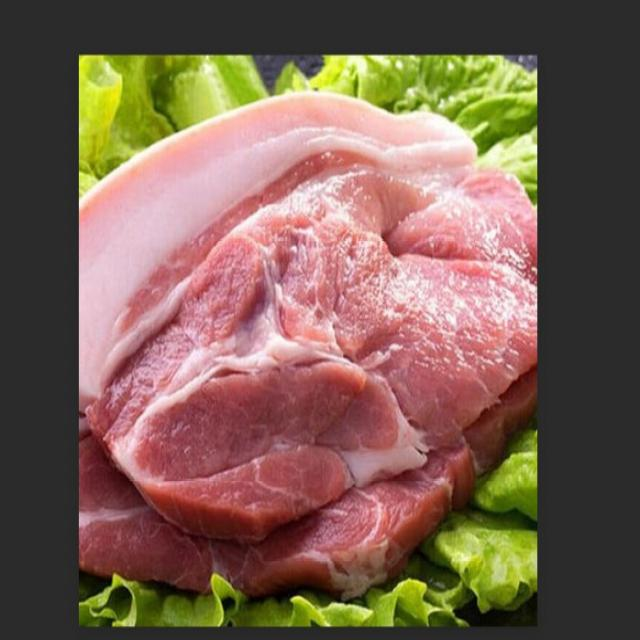pork: (83, 97, 534, 581)
